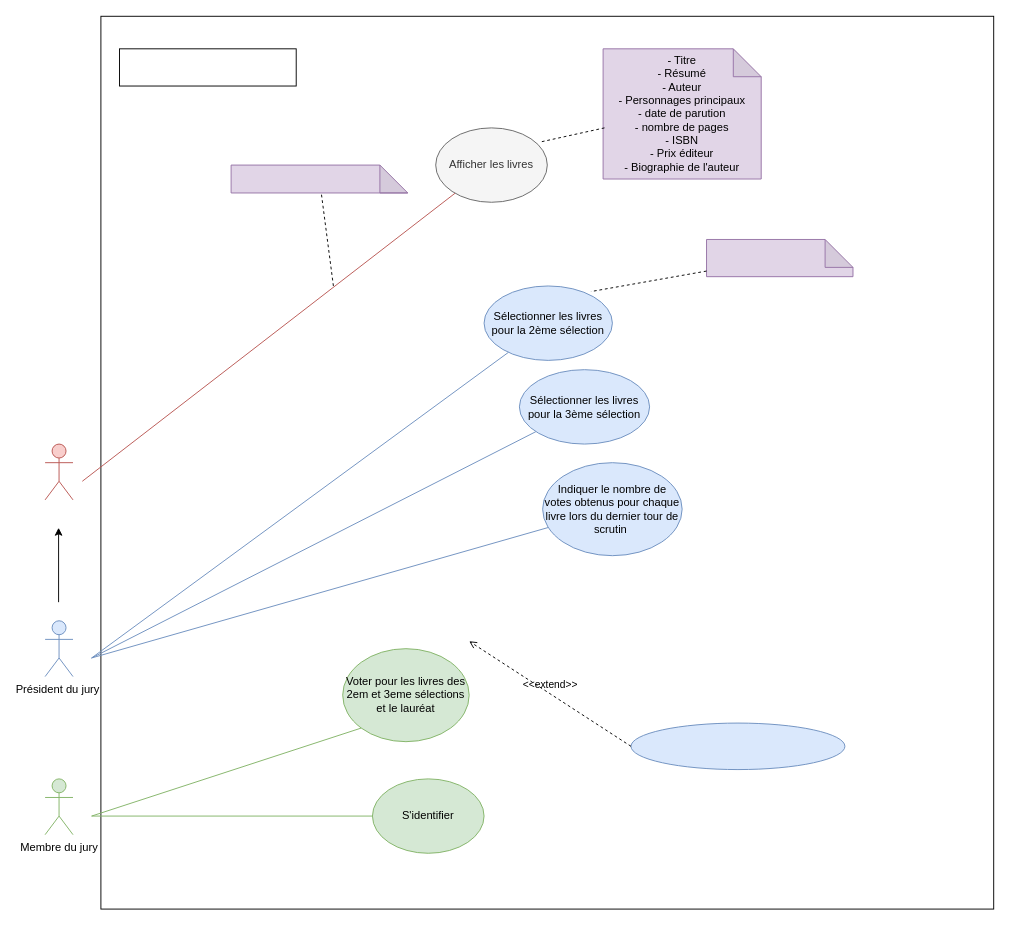
Some shapes in this 1010 by 925 pixel diagram are drawn without their labels. The shapes that lost their labels are listed below. From the top down, each one's centre as x and y in pixels, then its label:
At (x=207, y=67): "Prix Goncourt 2024".
At (x=319, y=178): "_ titre et auteur".
At (x=779, y=258): "_Barre de recherche _Liste d'élève".
At (x=58, y=471): "Utilisateurs".
At (x=737, y=746): "Ajouter ou supprimer un élève d'un cours".
